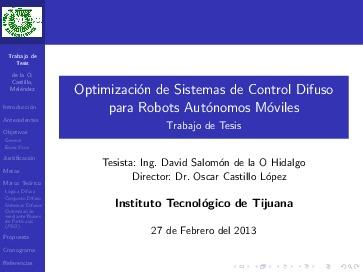paragraph: (96, 150, 315, 244)
title: (66, 76, 343, 134)
